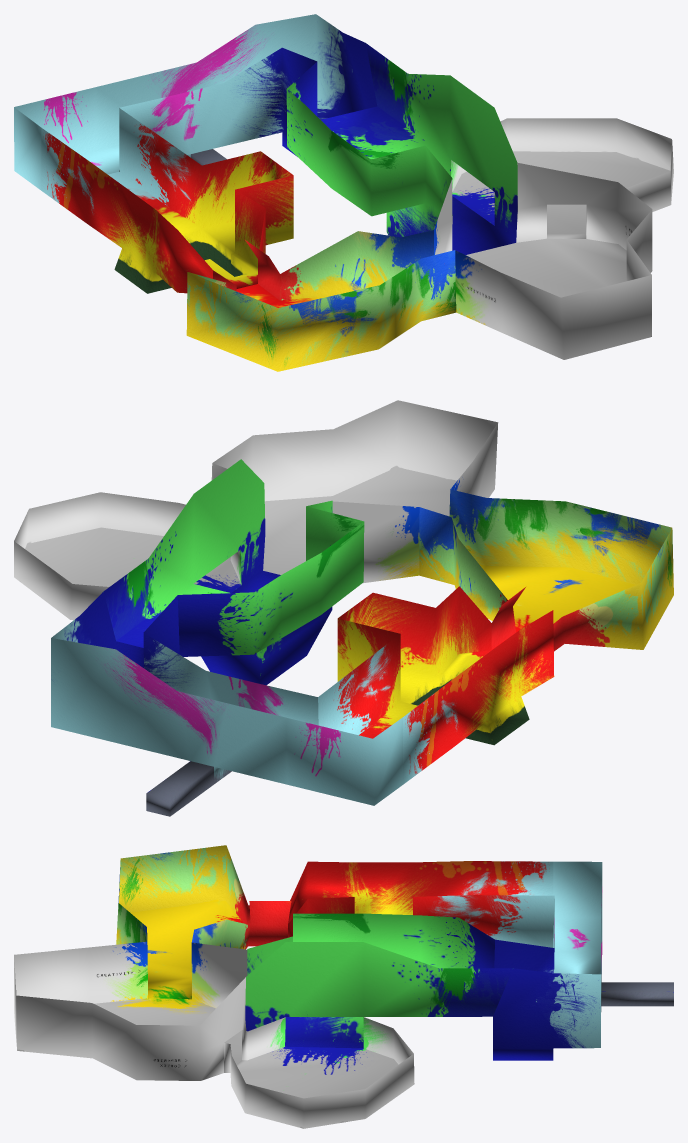
File: FloorCollider2.fbx
The picture shows the model from 3 angles, top to bottom: view 1: azimuth 30°, elevation 25°; view 2: azimuth 150°, elevation 25°; view 3: azimuth 270°, elevation 25°; orthographic projection. The views are drawn at different scales.
Parts seen in each view (by area): view 1: FloorCollider2; view 2: FloorCollider2; view 3: FloorCollider2.
Boxes of the visible parts, <box> form: FloorCollider2: <box>14,14,673,371</box>; FloorCollider2: <box>14,400,673,816</box>; FloorCollider2: <box>14,845,673,1128</box>.
Size of the model in its own units: 34.92 by 11.08 by 42.38.
